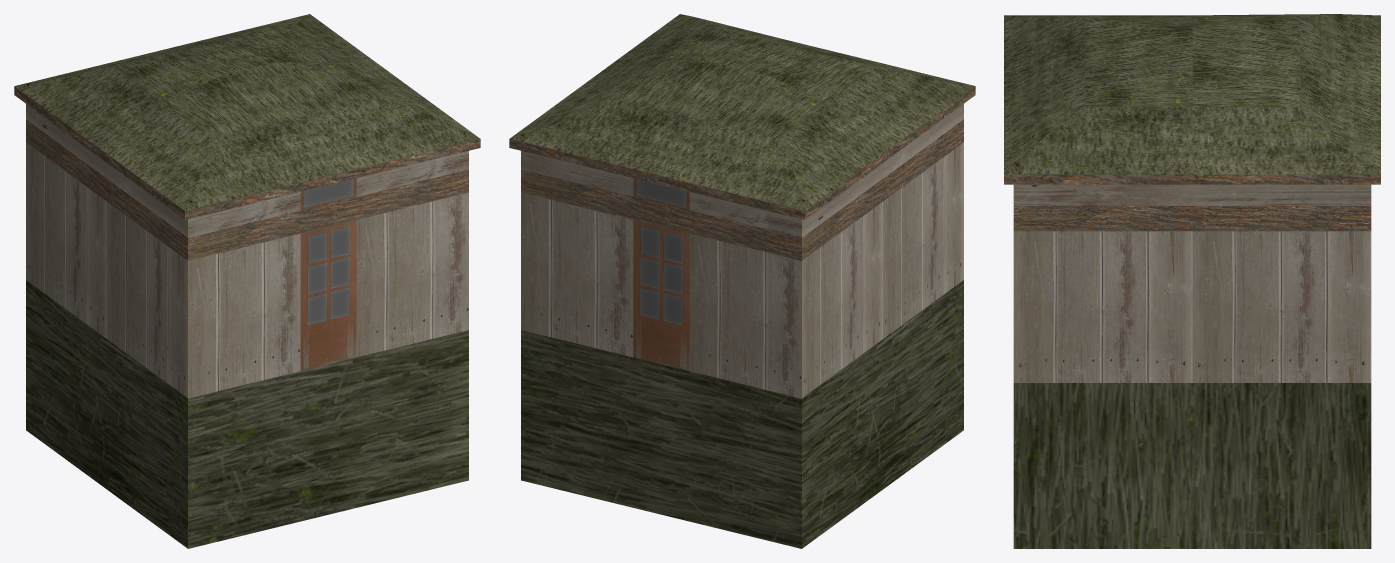
The model's file is farm_house.obj.
3 views of the same model, side by side, from view 1: azimuth 30°, elevation 25°; view 2: azimuth 150°, elevation 25°; view 3: azimuth 270°, elevation 25° (orthographic). The views are drawn at different scales.
Parts seen in each view (by area): view 1: Cube.005; view 2: Cube.005; view 3: Cube.005.
Part boxes in pixels (x1=…): Cube.005: x1=14, y1=14, x2=480, y2=548; Cube.005: x1=509, y1=14, x2=975, y2=548; Cube.005: x1=1004, y1=14, x2=1380, y2=548.
Size of the model in its own units: 4.17 by 5.2 by 4.17.
